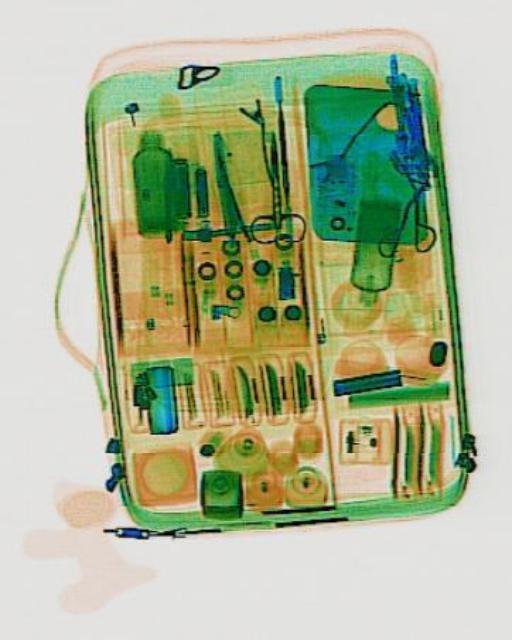Scissors: (241, 128, 305, 242)
